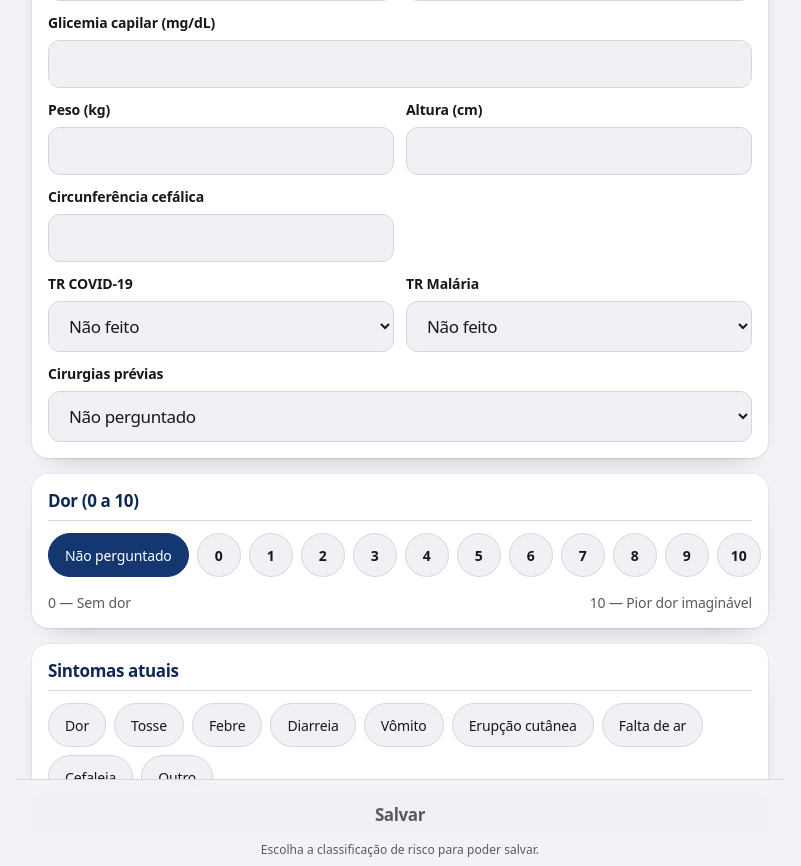
Test: Triagem › "quais cirurgias" só aparece depois de responder que sim
(page scrolled)
Expected: the field labelled "Quais cirurgias" is not shown
Select "Sim" in the dropdown labelled "Cirurgias prévias" at (400, 416), box [48, 391, 752, 442]
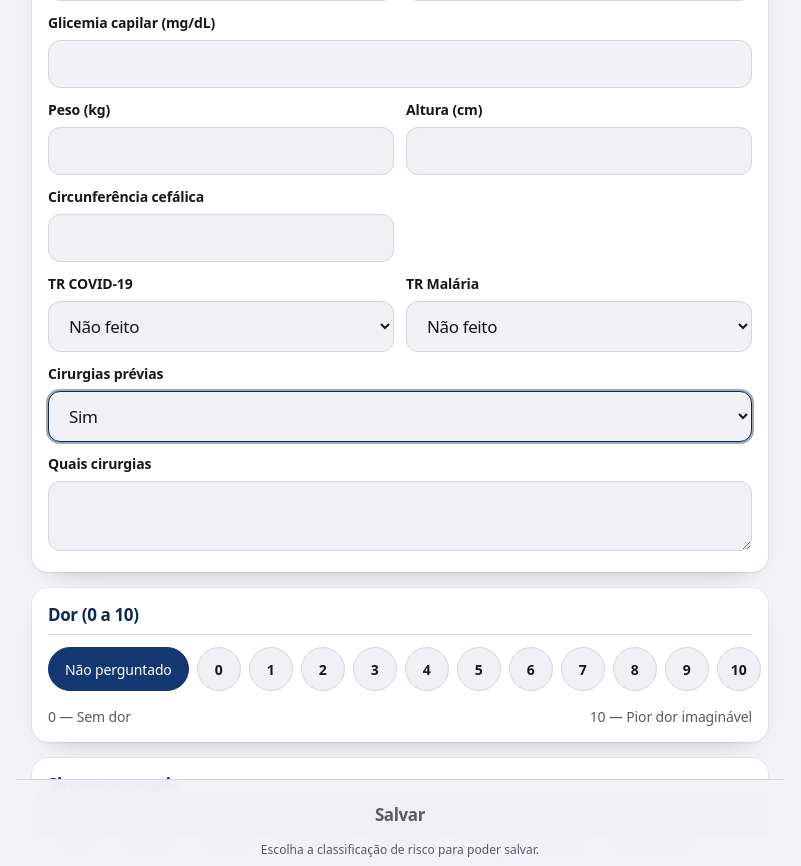
Expected: the text box labelled "Quais cirurgias" is shown, [48, 481, 752, 551]
